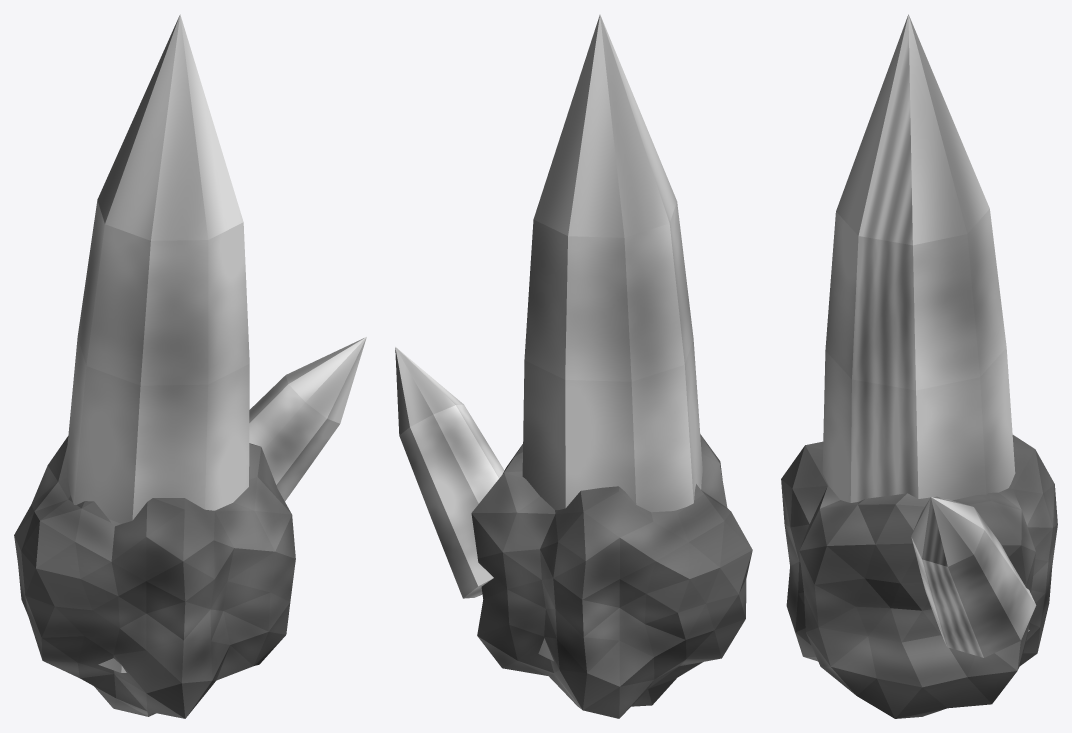
Rendered from earth-crystal.glb.
3 views of the same model, side by side, from view 1: azimuth 30°, elevation 25°; view 2: azimuth 150°, elevation 25°; view 3: azimuth 270°, elevation 25° (orthographic). The views are drawn at different scales.
Visible parts, largest first — view 1: earth-crystal; view 2: earth-crystal; view 3: earth-crystal.
Part boxes in pixels (bbox=[...]): earth-crystal: bbox=[14, 14, 366, 718]; earth-crystal: bbox=[395, 14, 752, 718]; earth-crystal: bbox=[781, 14, 1057, 718].
Size of the model in its own units: 0.1981 by 0.373 by 0.1345.
Materials: 1 (1 with a texture image).
